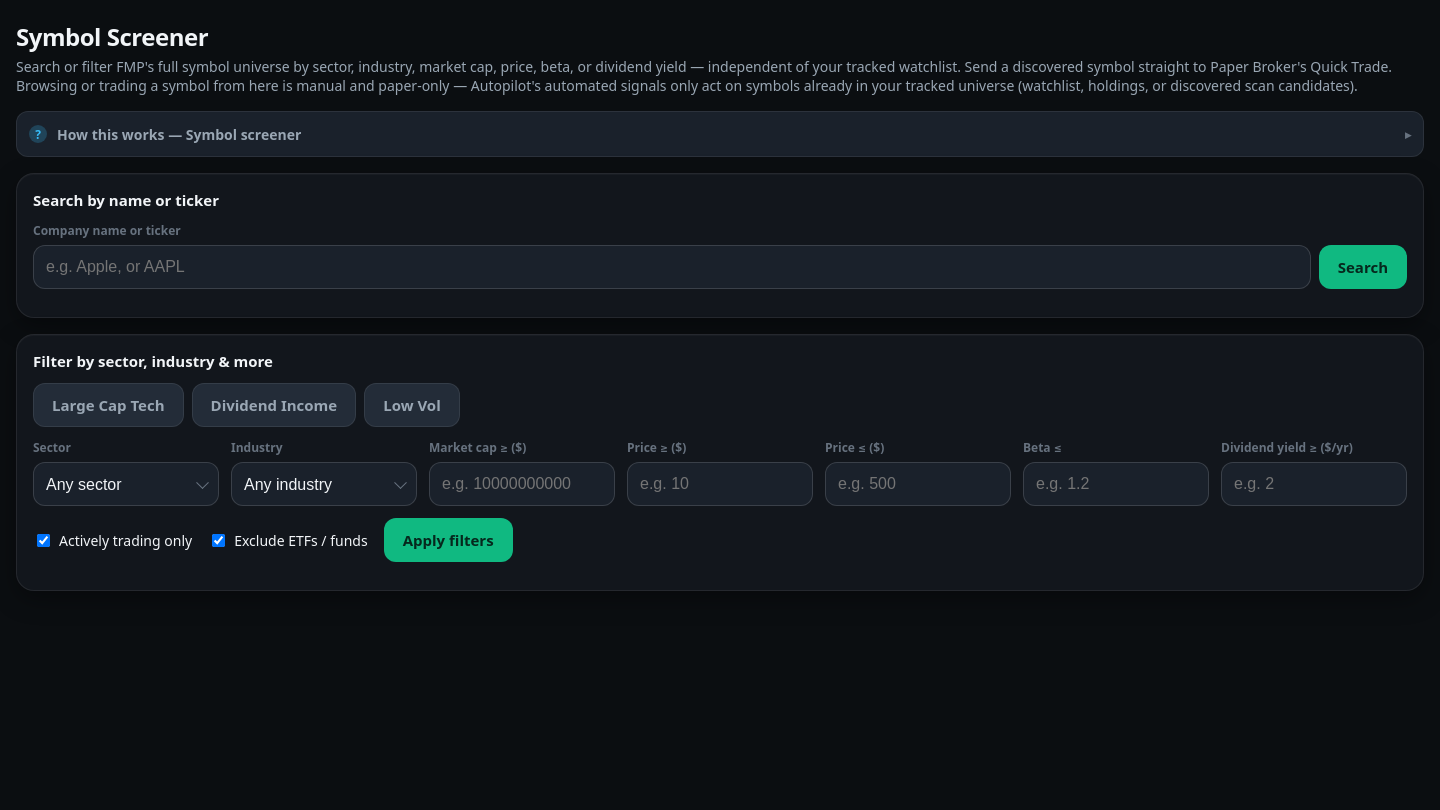
Test: SymbolScreener screen (real mock API) › search: shows an honest empty state when nothing matches
The width and height of the screenshot is (1440, 810).
In the field labelled "Company name or ticker": (672, 267) [33,245,1311,289], type "ZZZZNOTREAL"
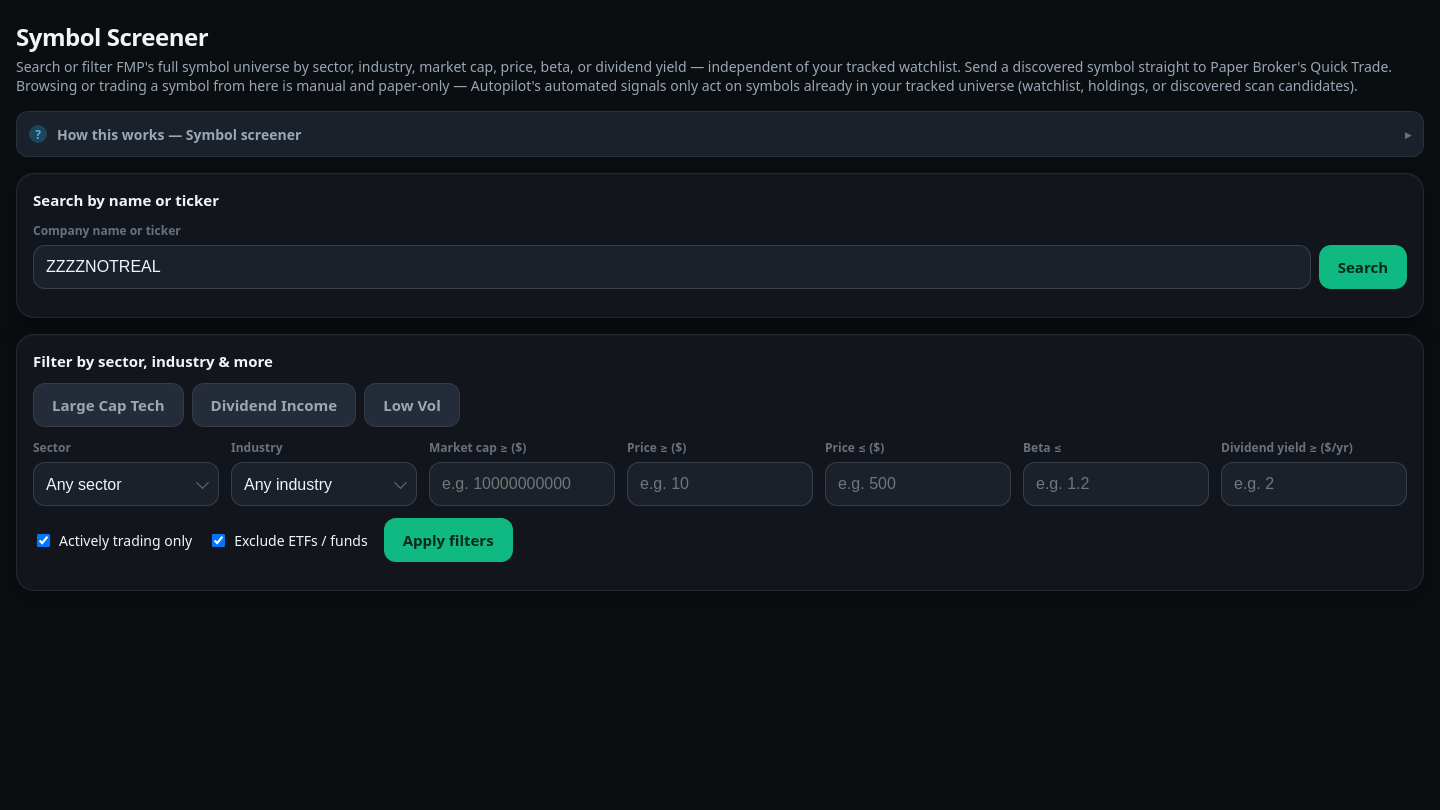
Click the button "Search": (1363, 267) [1319,245,1407,289]
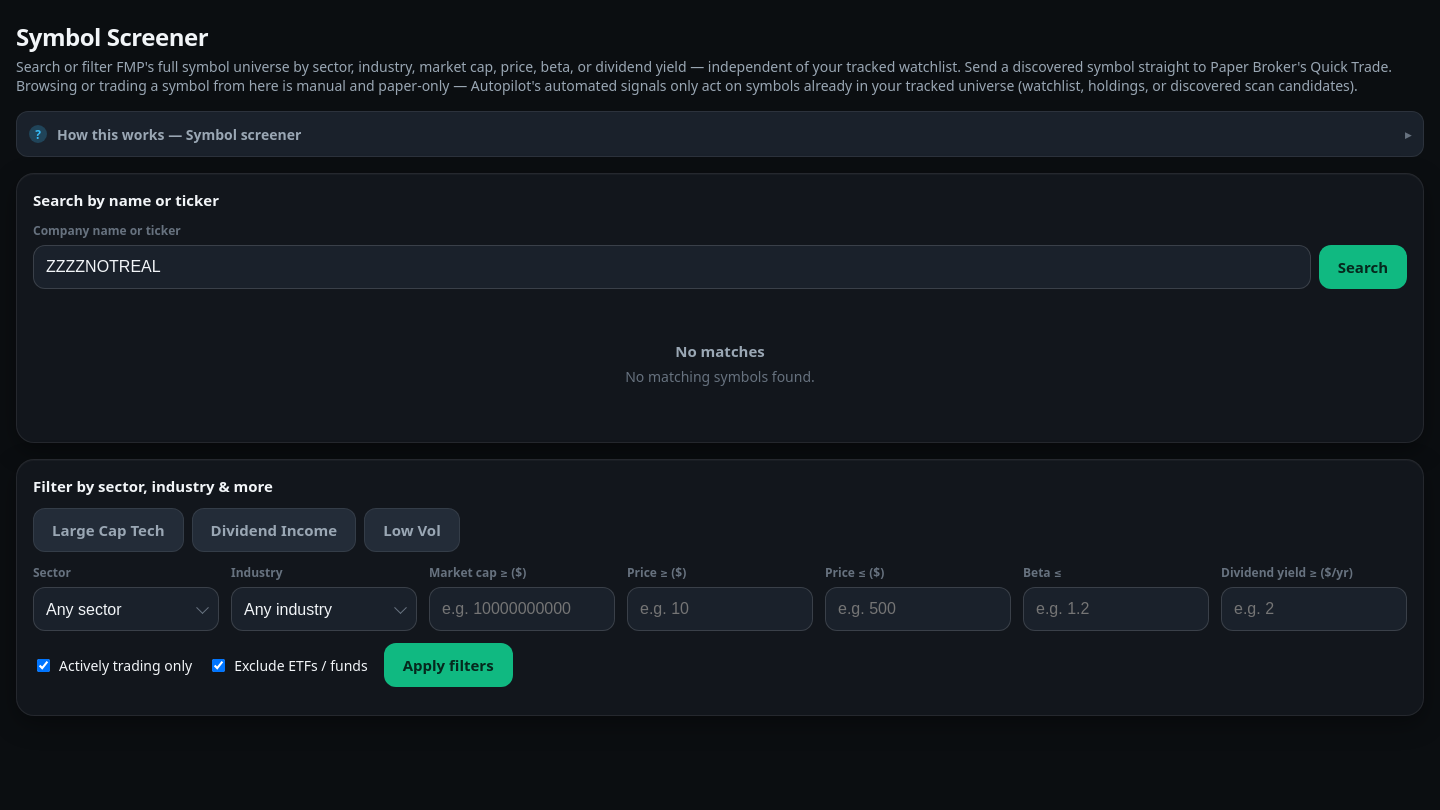
Expected: the text "No matches" is shown, [675,341,765,361]
Expected: the text "No matching symbols found." is shown, [625,367,815,386]
